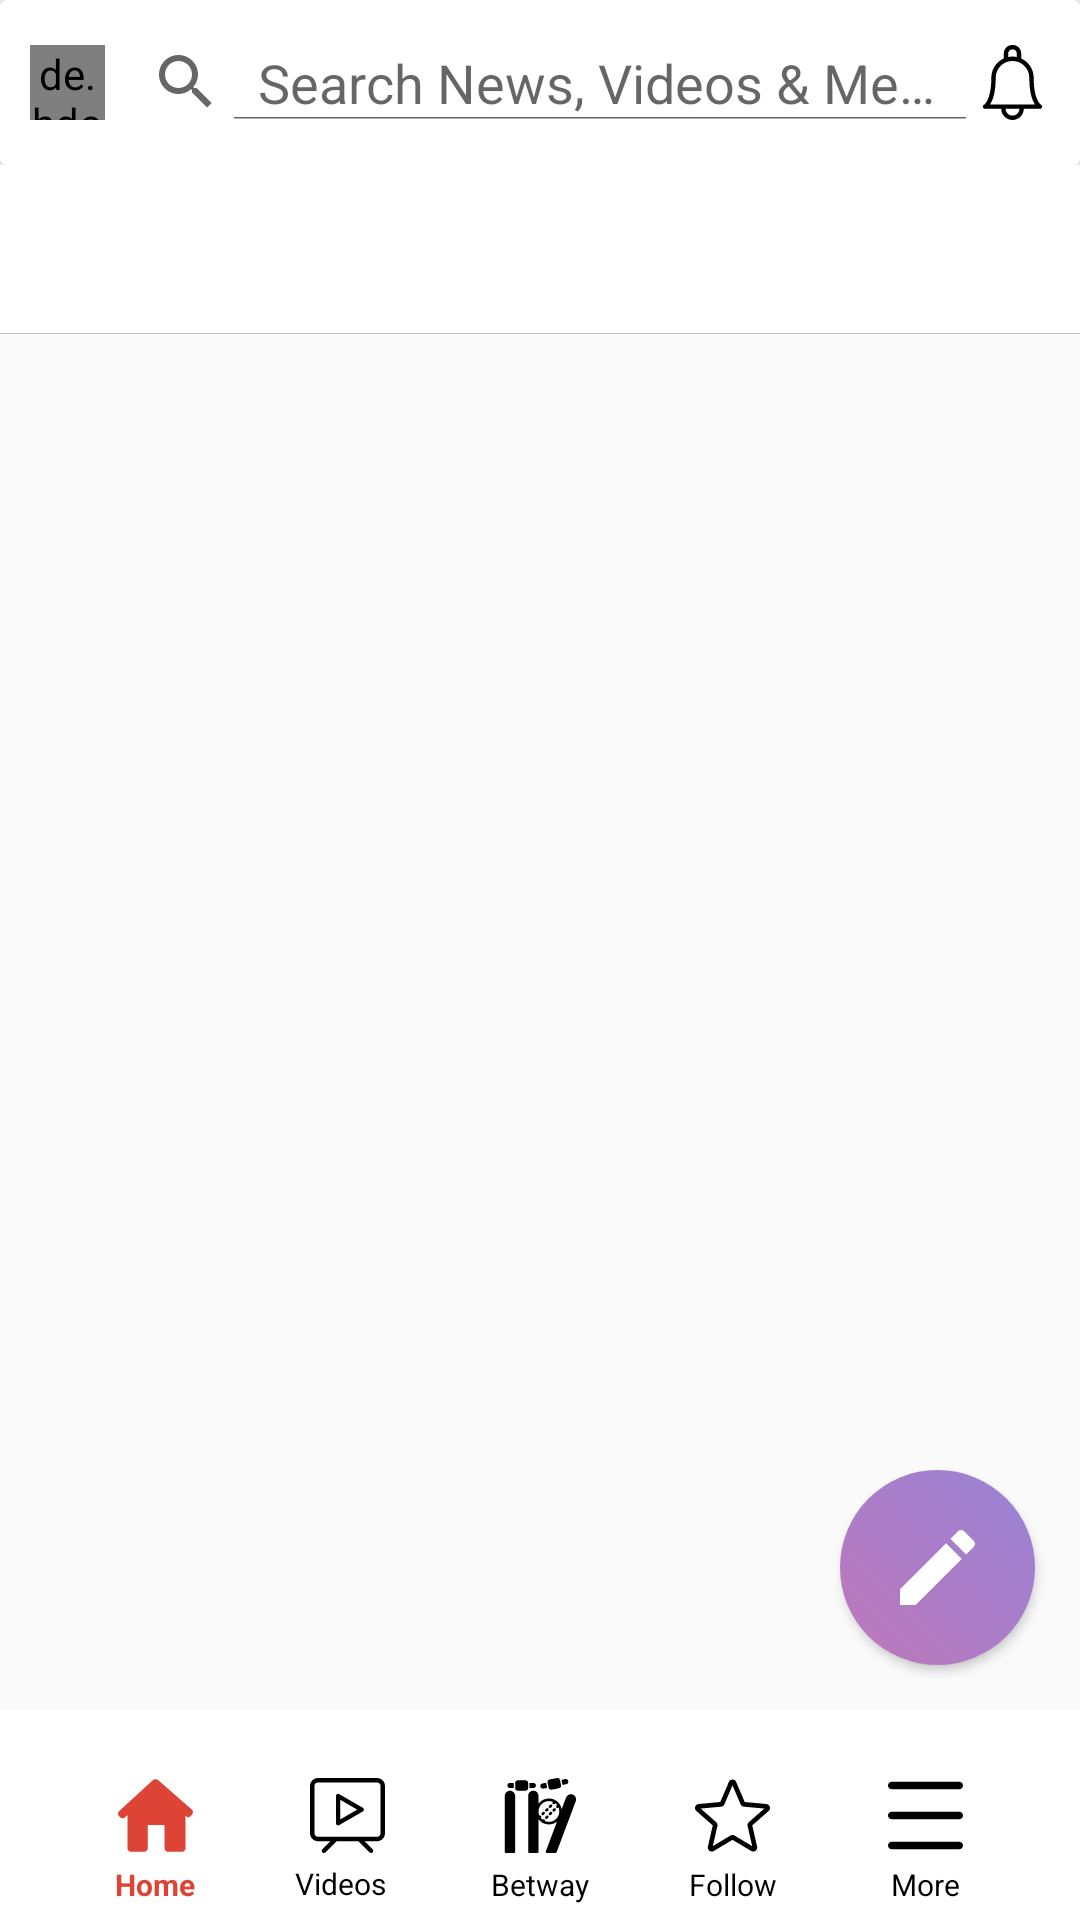

Icons on this 1080x1920 Android screen, each with its box as (x1, y1, x2, y2):
bell: (982, 45, 1043, 120)
cricket: (504, 1778, 576, 1853)
edit: (840, 1470, 1035, 1665)
menu: (888, 1781, 963, 1850)
star: (695, 1779, 770, 1852)
